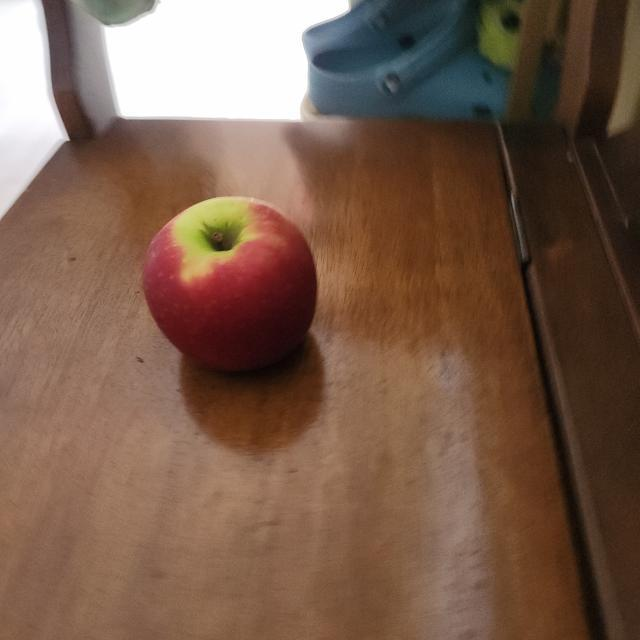apple: (137, 190, 323, 390)
